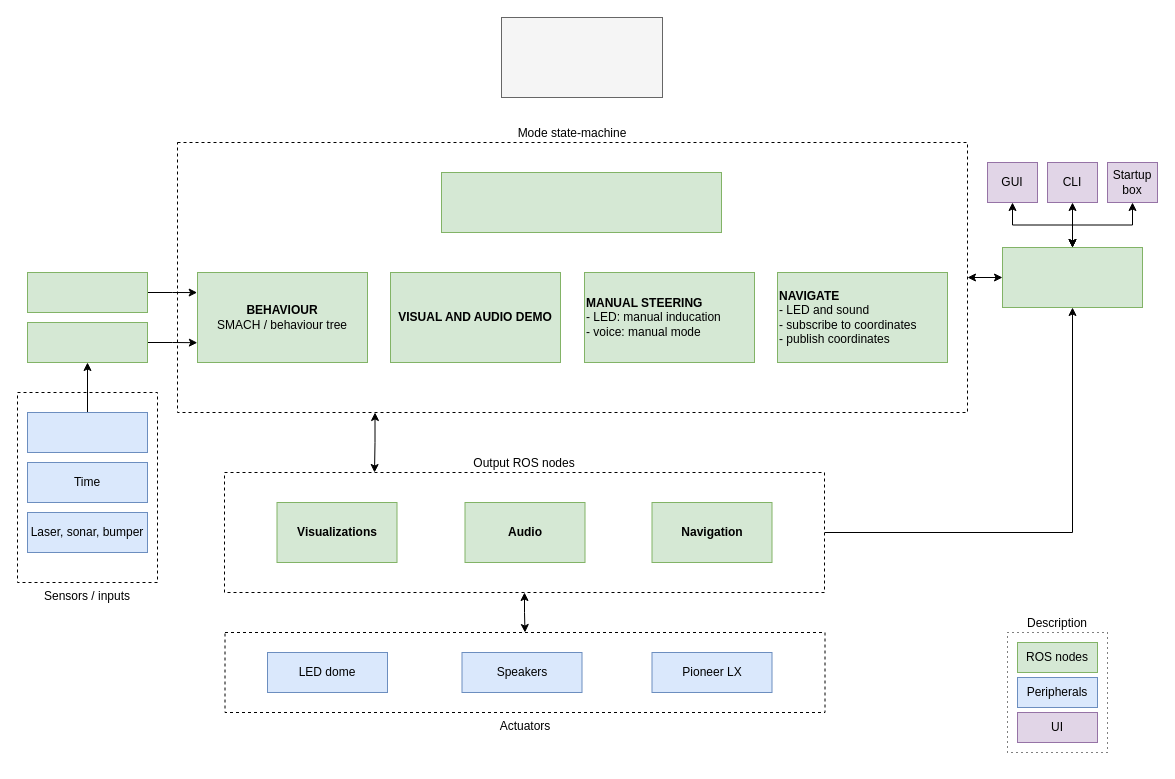
This 1175x779 diagram has some shape labels left out. Here are the shapes that lost their labels. From the top down, the centre of each, then its label:
point 581,57: ARDUINO LED BOOT - LED: startup visualization
point 581,202: IDLE - LEDs: battery status + green ready idle ring - sound
point 87,292: Event scheduler
point 1072,277: Commander - set_state(state, *args) - get_state()
point 87,342: Vision
point 87,432: Camera
